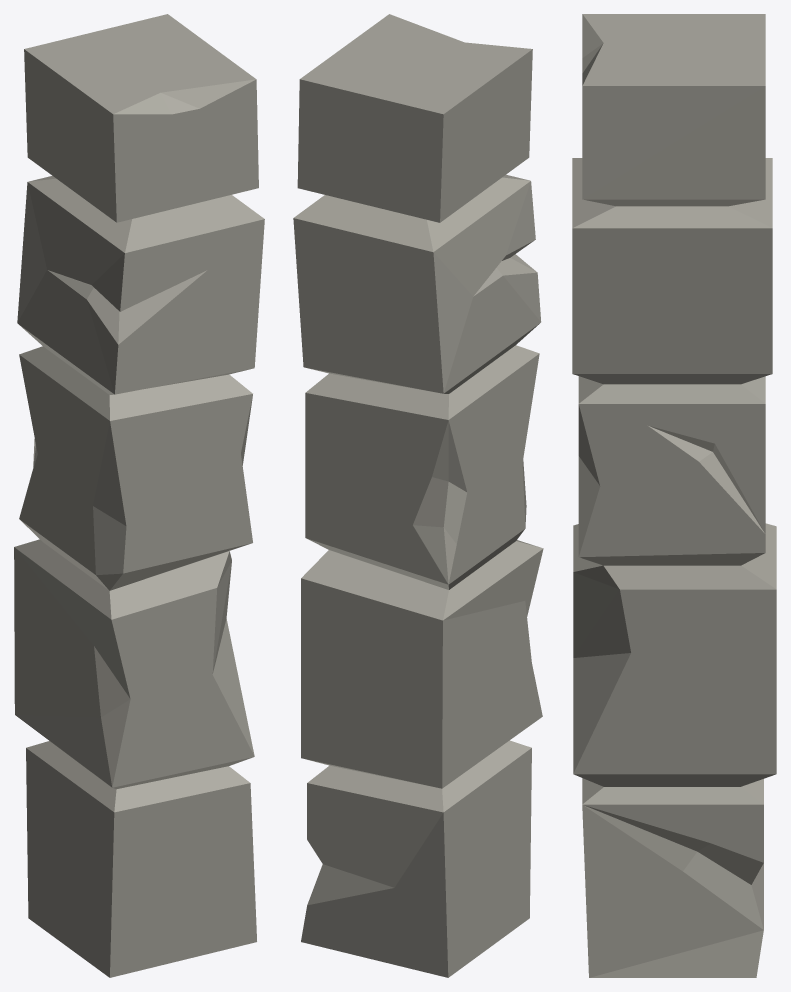
File: rpgpp_ag_wall_connector_corner_03b_3m.fbx
The picture shows the model from 3 angles, left to right: view 1: azimuth 30°, elevation 25°; view 2: azimuth 150°, elevation 25°; view 3: azimuth 270°, elevation 25°; orthographic projection. The views are drawn at different scales.
Parts seen in each view (by area): view 1: rpgpp_ag_wall_connector_corner_03b_3m; view 2: rpgpp_ag_wall_connector_corner_03b_3m; view 3: rpgpp_ag_wall_connector_corner_03b_3m.
Boxes of the visible parts, <box> form: rpgpp_ag_wall_connector_corner_03b_3m: <box>14,14,264,977</box>; rpgpp_ag_wall_connector_corner_03b_3m: <box>293,14,543,977</box>; rpgpp_ag_wall_connector_corner_03b_3m: <box>572,14,776,977</box>.
Size of the model in its own units: 0.556 by 3 by 0.6245.
